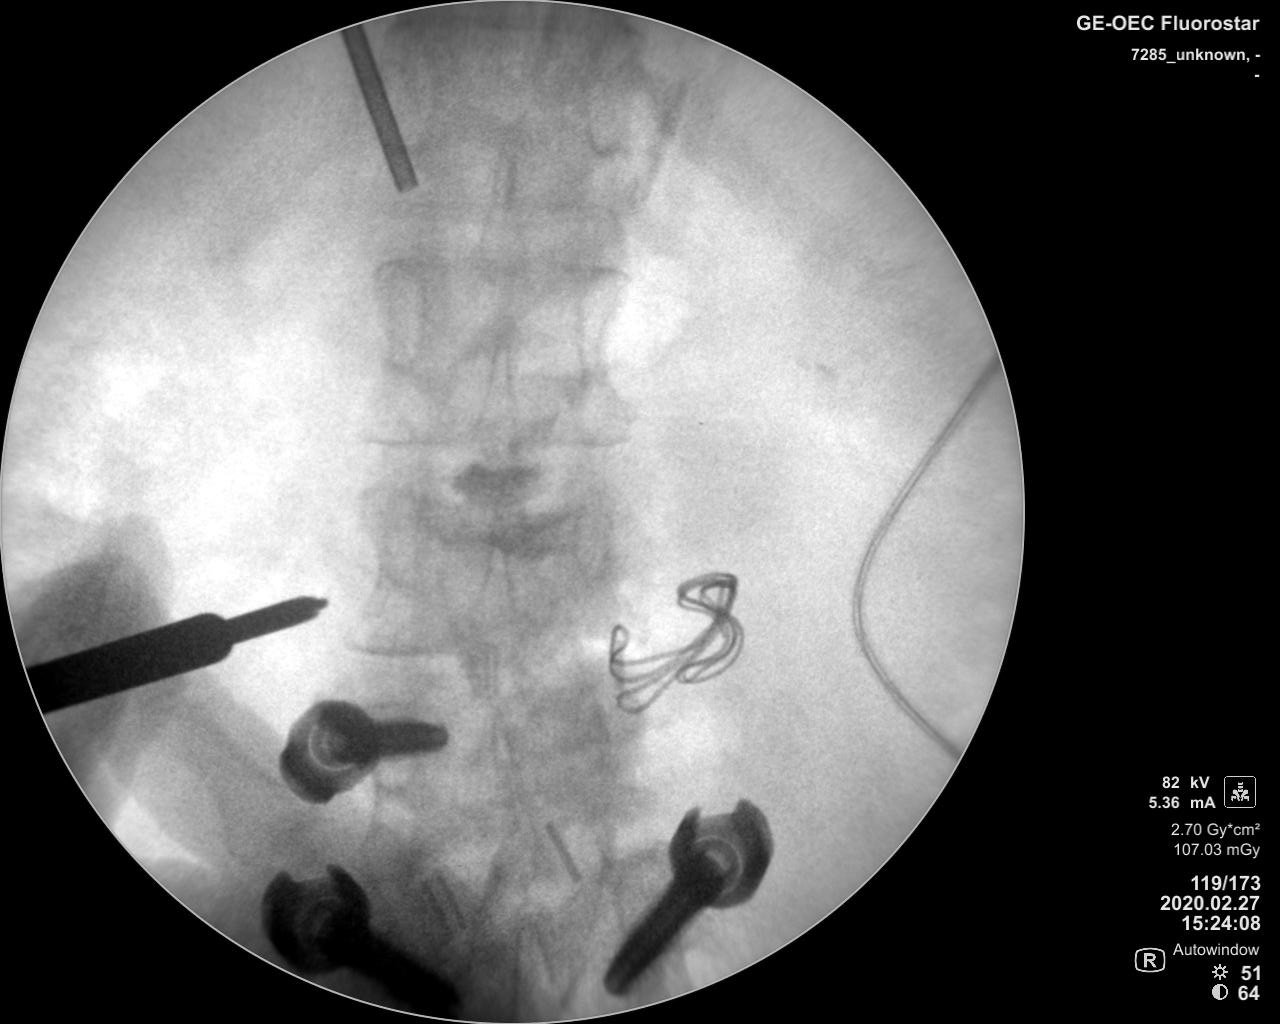eyes: (585, 38, 636, 156), (373, 261, 424, 370), (574, 263, 624, 373), (385, 41, 432, 150), (567, 501, 618, 589)
line: (367, 248, 632, 285), (349, 429, 634, 453)
nose: (478, 144, 531, 285), (472, 329, 522, 467), (506, 916, 562, 1018), (470, 540, 514, 657)
